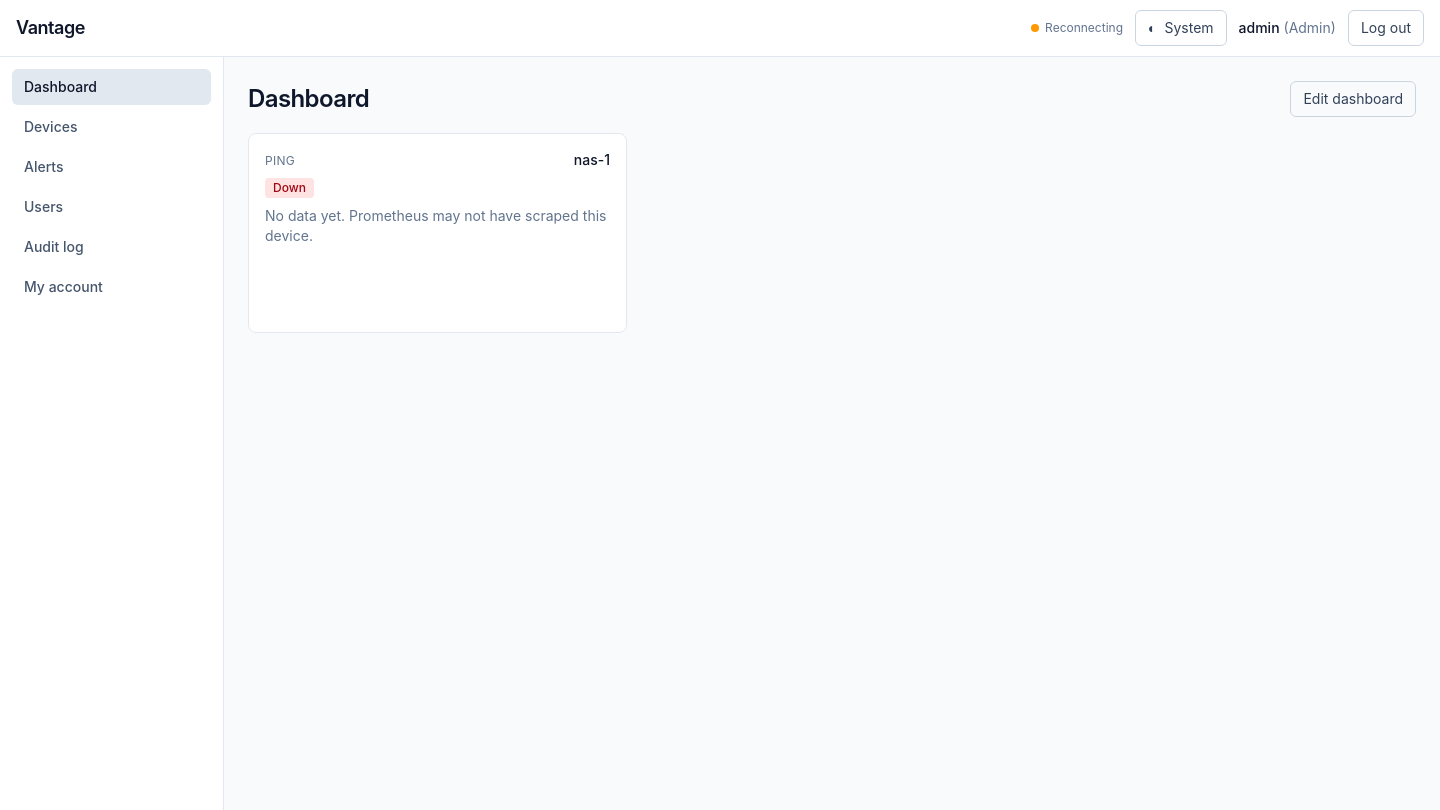
Test: dashboard page › offers remove buttons only in edit mode
Check: the element with test id "card" is shown, box [248, 133, 627, 333]
Click the button "Edit dashboard" at (1353, 99), box [1290, 81, 1416, 117]
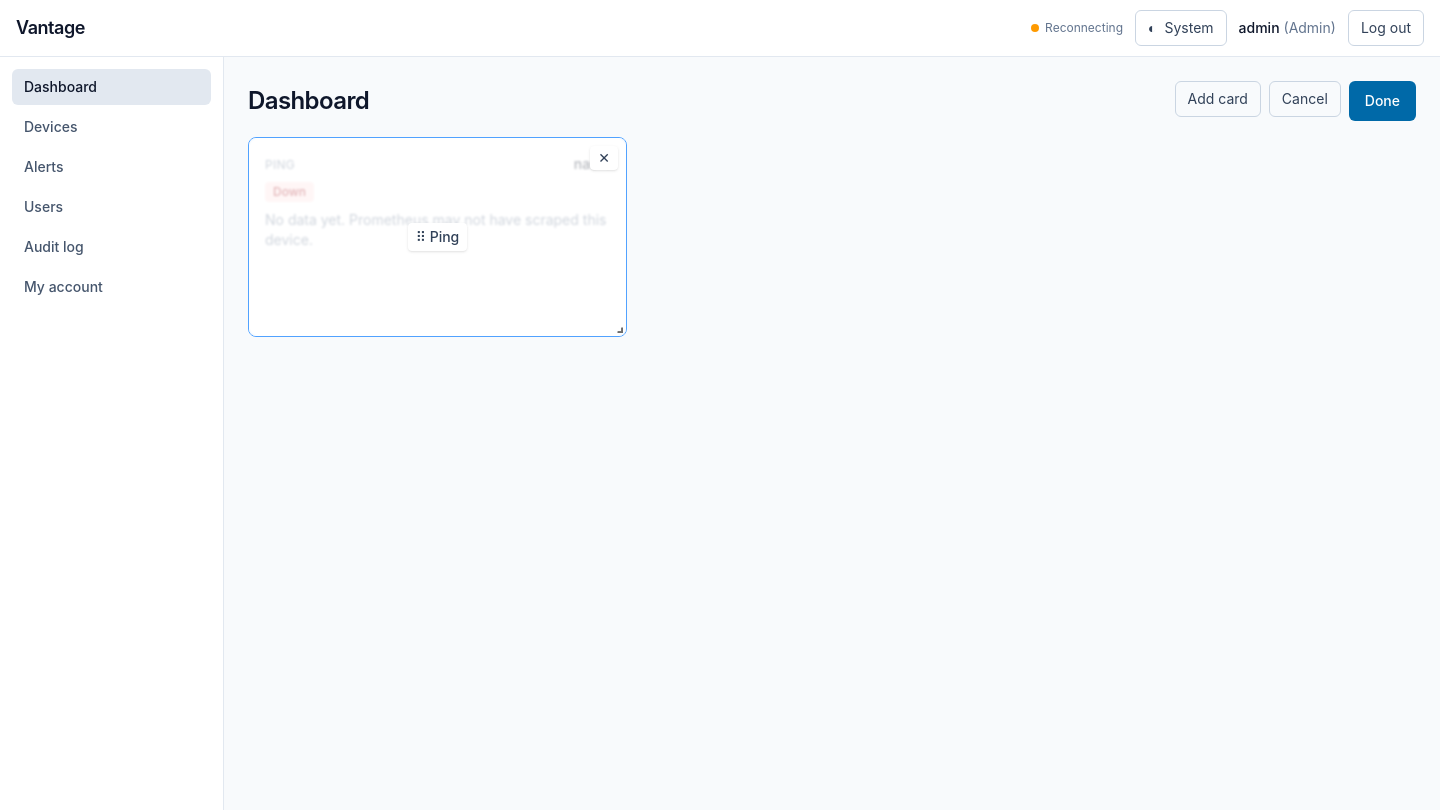
Click the button named "Remove Ping" at (604, 158), box [590, 146, 618, 170]
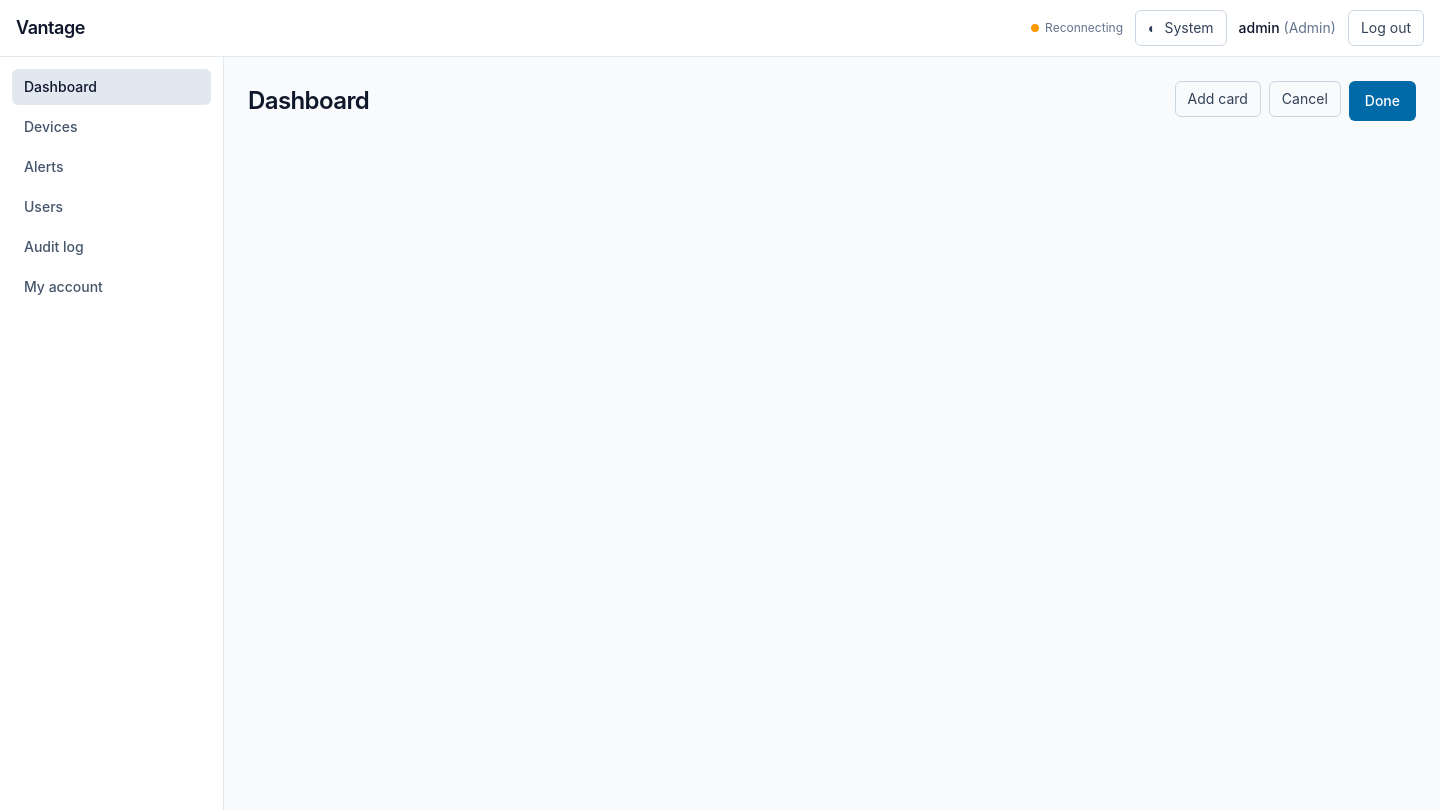
Check: no elements with test id "card" are shown
